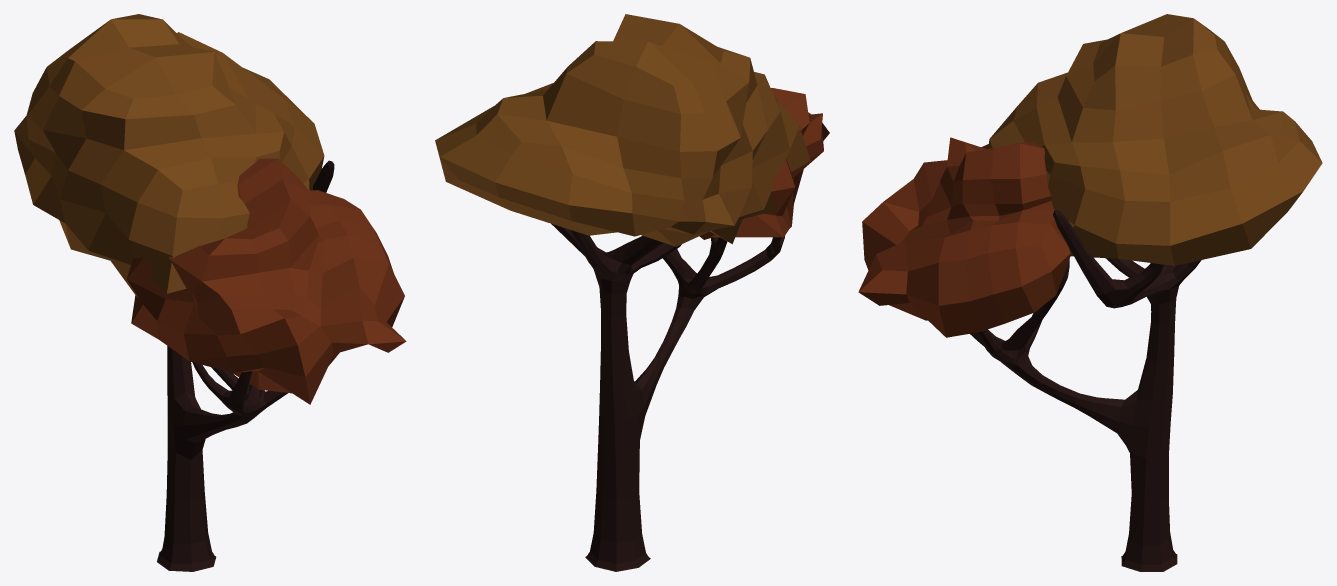
File: CommonTree_Autumn_2.obj
3 views of the same model, side by side, from view 1: azimuth 30°, elevation 25°; view 2: azimuth 150°, elevation 25°; view 3: azimuth 270°, elevation 25° (orthographic). The views are drawn at different scales.
Visible parts, largest first — view 1: CommonTree_Autumn_2_Cube.090; view 2: CommonTree_Autumn_2_Cube.090; view 3: CommonTree_Autumn_2_Cube.090.
Part boxes in pixels (x1,y1,x2,y2): CommonTree_Autumn_2_Cube.090: (14,14,406,571); CommonTree_Autumn_2_Cube.090: (435,14,829,571); CommonTree_Autumn_2_Cube.090: (858,14,1322,571).
Size of the model in its own units: 1.66 by 3.12 by 2.54.
